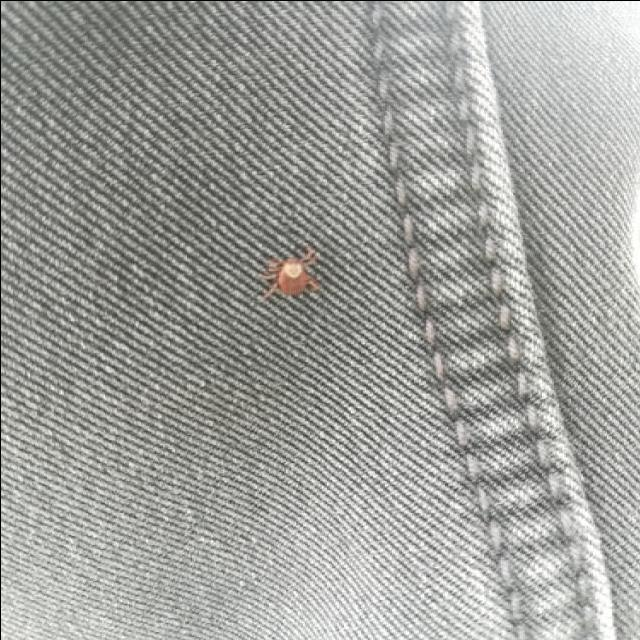Dermacentor Reticulatus-F: (261, 242, 323, 302)
